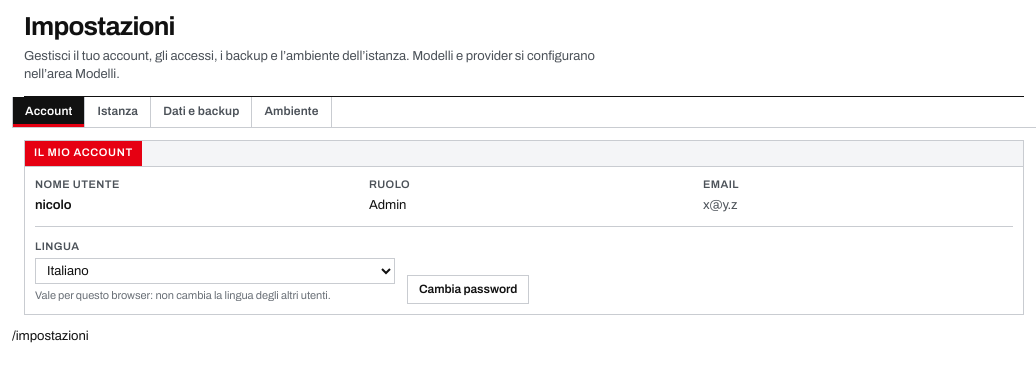
SettingsPage › la linguetta cambia zona e la scelta resta nell’URL
Click the button "Dati e backup" at {"x": 202, "y": 112}, box x1=151 y1=97 x2=252 y2=127
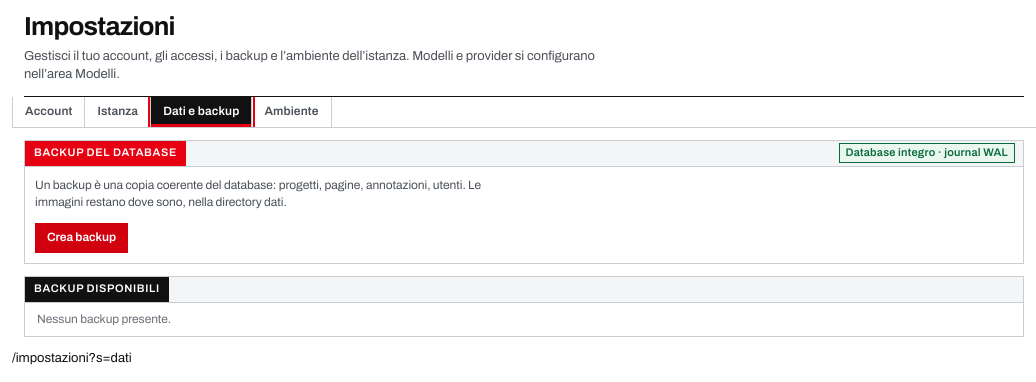
Check: the element "Backup del database" is shown, box x1=24 y1=140 x2=1024 y2=264
Check: the text "Il mio account" is gone
Check: the text with test id "location" shows "s=dati", box x1=88 y1=351 x2=132 y2=365
